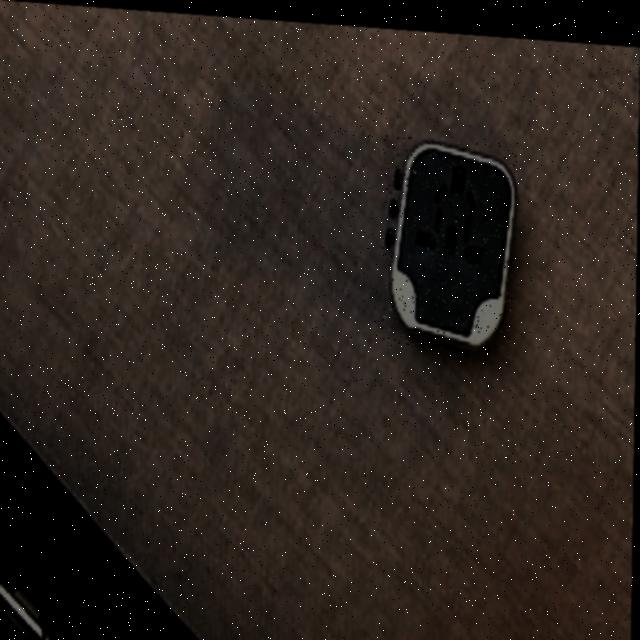adapter: (382, 129, 518, 345)
